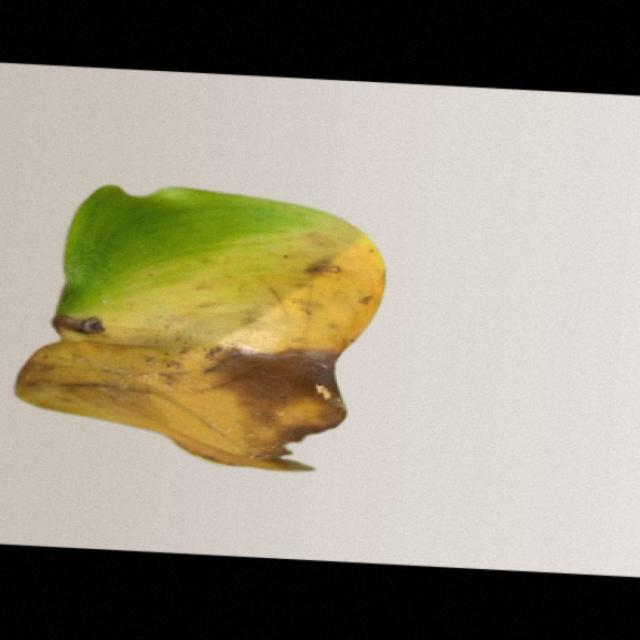daun berpenyakit kuning: (17, 186, 385, 471)
